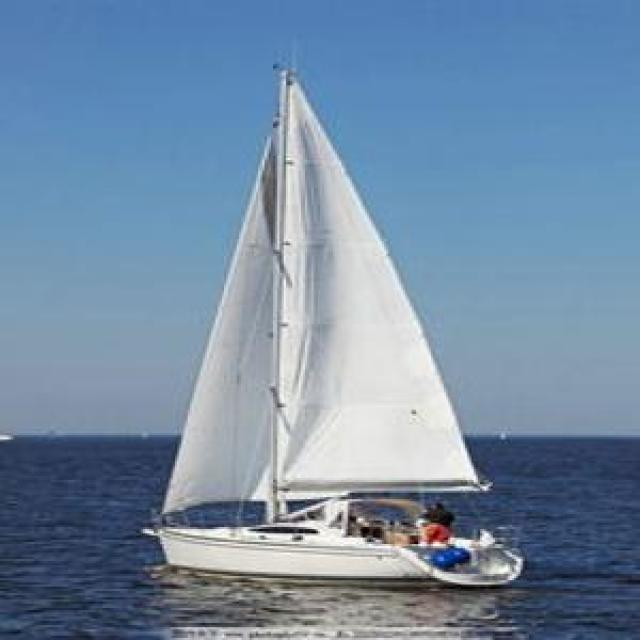sailboat: (153, 57, 527, 591)
